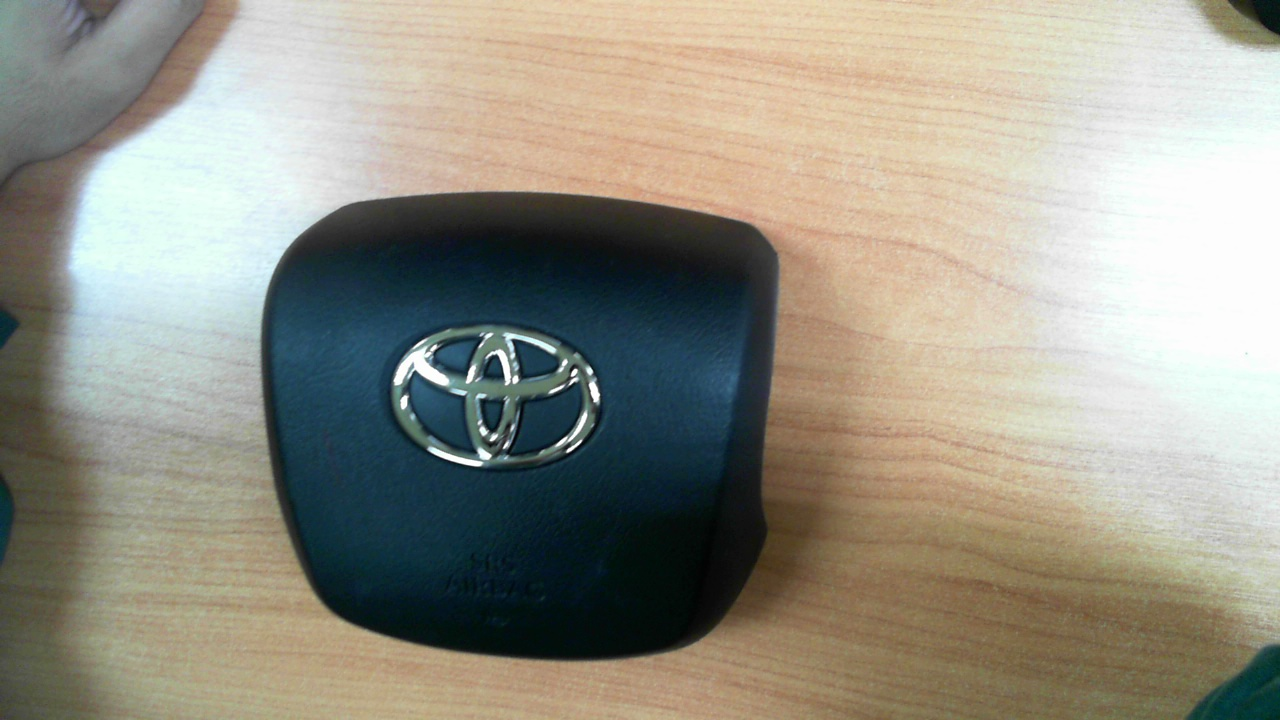Airbag: (258, 190, 781, 664)
Toyota: (392, 325, 602, 469)
